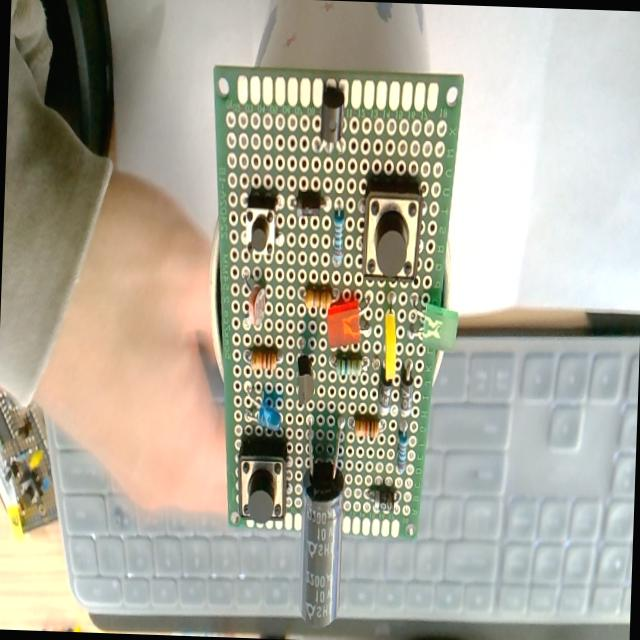Electrolytic capacitor: (295, 415, 347, 622)
cds: (244, 272, 268, 326)
diode: (292, 193, 332, 222), (398, 364, 414, 414), (377, 370, 392, 415), (369, 486, 394, 512)
led: (408, 286, 464, 350), (325, 295, 362, 351), (244, 390, 280, 432), (382, 310, 397, 378)
resistor: (332, 208, 346, 266), (250, 347, 278, 372), (332, 354, 362, 377), (304, 288, 332, 312), (396, 429, 408, 474), (354, 418, 378, 440)
switch: (361, 180, 423, 282), (235, 438, 288, 524), (244, 193, 278, 259)
transistor: (318, 93, 348, 168), (296, 354, 315, 404)
